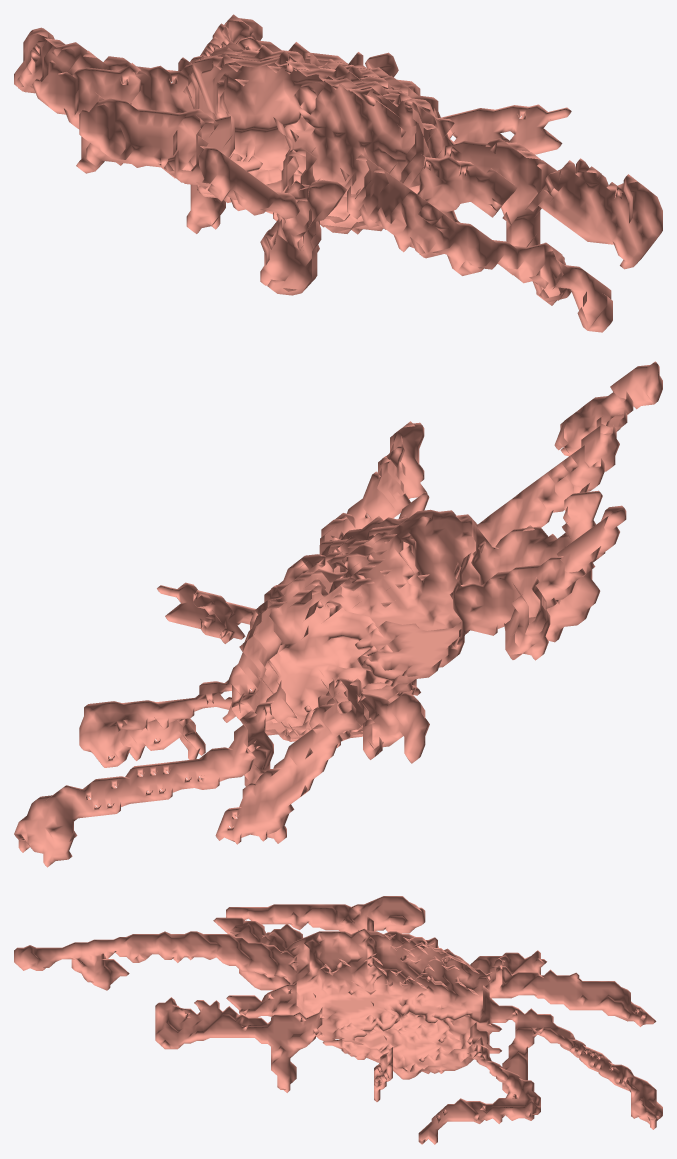
The model's file is osteocyte_97.glb.
The picture shows the model from 3 angles, top to bottom: view 1: azimuth 30°, elevation 25°; view 2: azimuth 150°, elevation 25°; view 3: azimuth 270°, elevation 25°; orthographic projection. The views are drawn at different scales.
Parts seen in each view (by area): view 1: osteocyte_97; view 2: osteocyte_97; view 3: osteocyte_97.
Boxes of the visible parts, x1=… form: osteocyte_97: x1=14, y1=14, x2=662, y2=332; osteocyte_97: x1=14, y1=361, x2=662, y2=867; osteocyte_97: x1=14, y1=896, x2=662, y2=1144.
Size of the model in its own units: 23.59 by 12.04 by 48.63.
